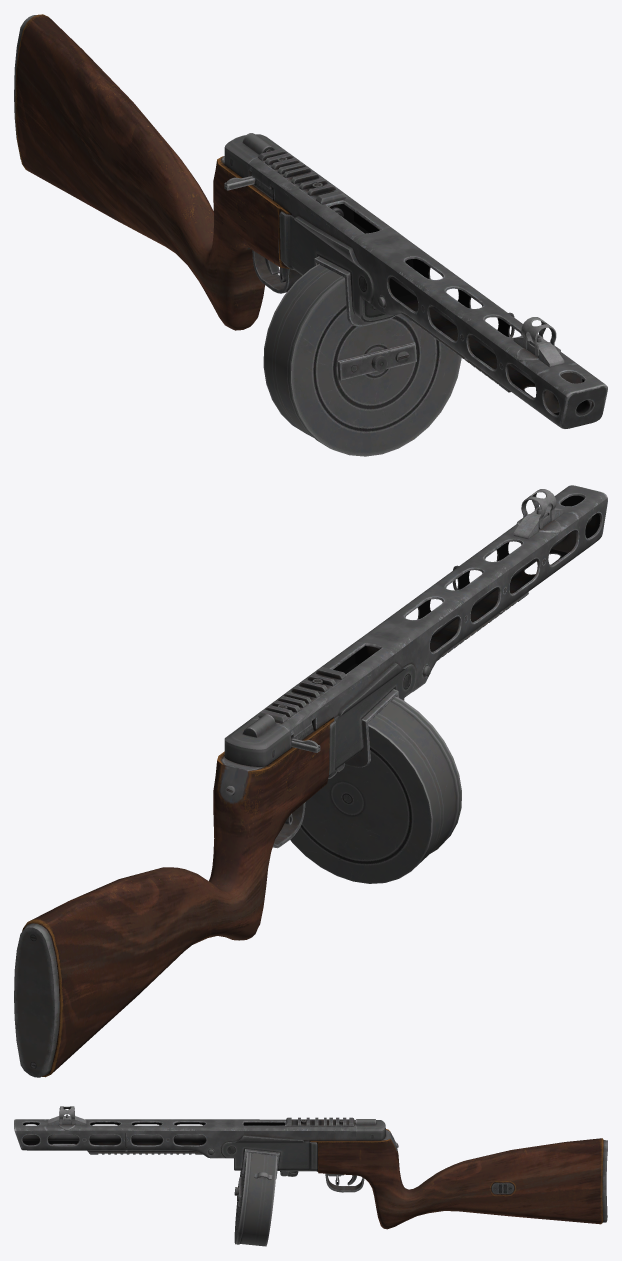
Rendered from raw.glb.
The picture shows the model from 3 angles, top to bottom: view 1: azimuth 30°, elevation 25°; view 2: azimuth 150°, elevation 25°; view 3: azimuth 270°, elevation 25°; orthographic projection. The views are drawn at different scales.
Parts seen in each view (by area): view 1: ppsh_LOD0; view 2: ppsh_LOD0; view 3: ppsh_LOD0.
Part boxes in pixels (box(x1,y1,x2,y2)): ppsh_LOD0: box(14, 14, 607, 456); ppsh_LOD0: box(14, 485, 607, 1077); ppsh_LOD0: box(14, 1106, 607, 1246).
Size of the model in its own units: 0.1106 by 0.1553 by 0.6212.
Materials: 1 (1 with a texture image).
